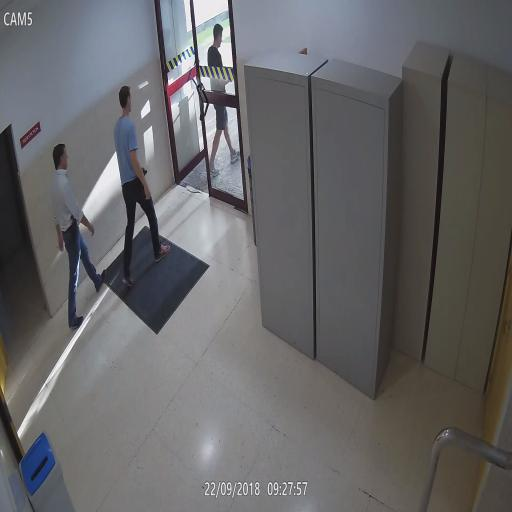Handgun: (70, 213, 79, 234), (140, 164, 148, 177)
